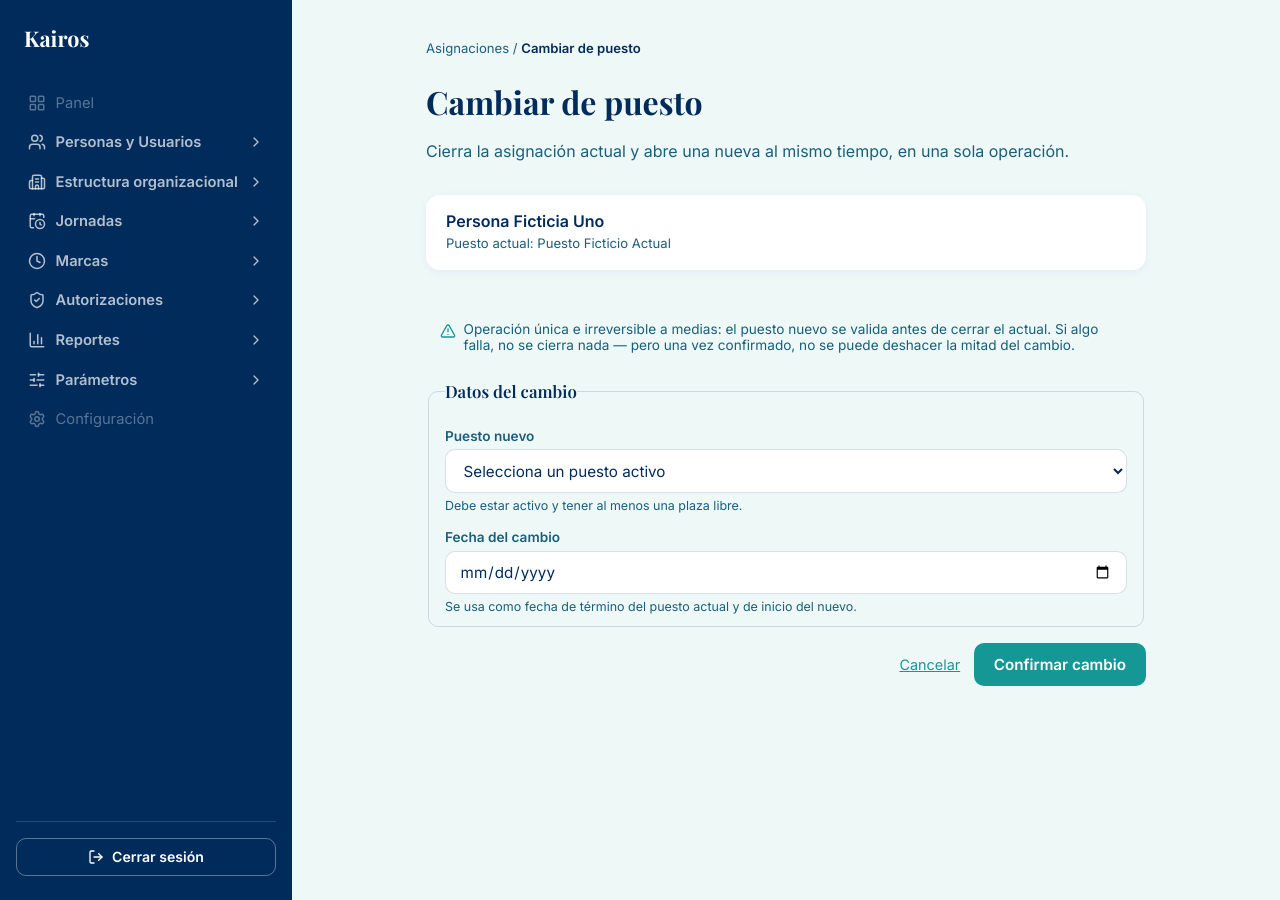
Test: CambiarPuestoAsignacionPage › muestra el detail real del backend cuando el RPC rechaza el cambio (422)
Expected: the text "Persona Ficticia Uno" is shown, [446, 211, 604, 231]
Select "Puesto Ficticio Destino — 0/1 ocupadas" in the dropdown labelled "Puesto nuevo". click: (786, 471)
box: [445, 449, 1127, 493]
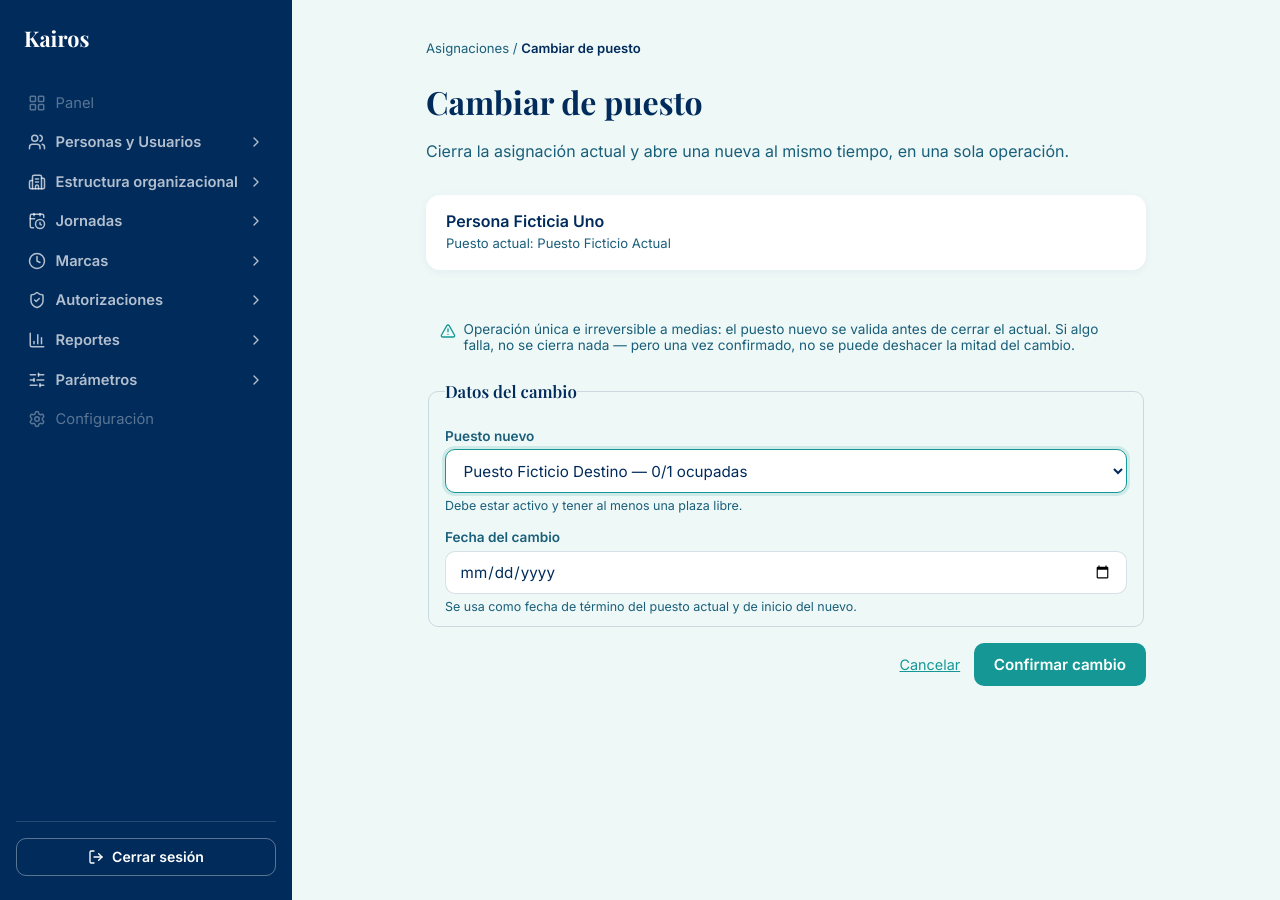
Type "2026-07-01" into the date field labelled "Fecha del cambio". click: (786, 572)
box: [445, 551, 1127, 594]
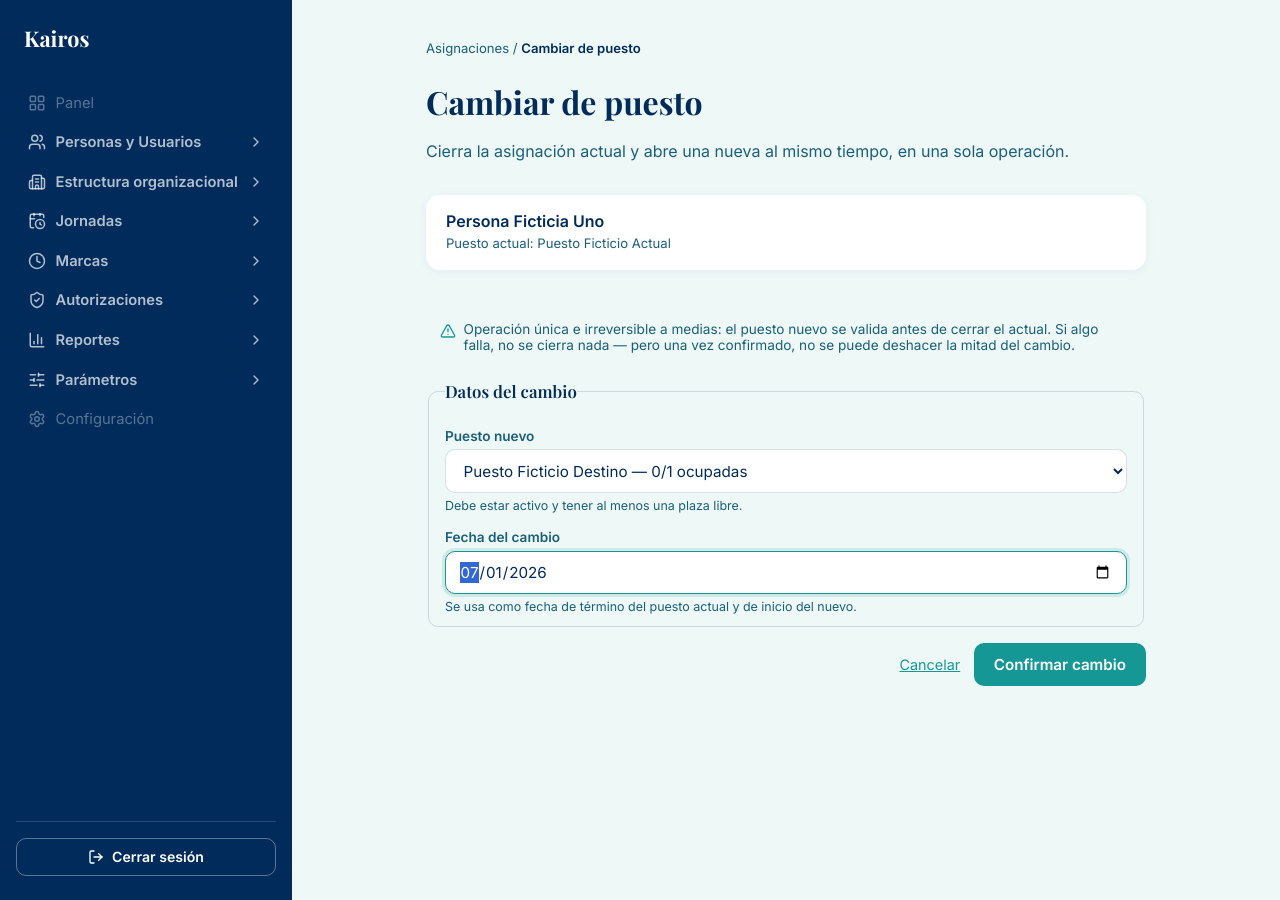
Click the button "Confirmar cambio". click: (1060, 665)
box: [974, 643, 1146, 686]
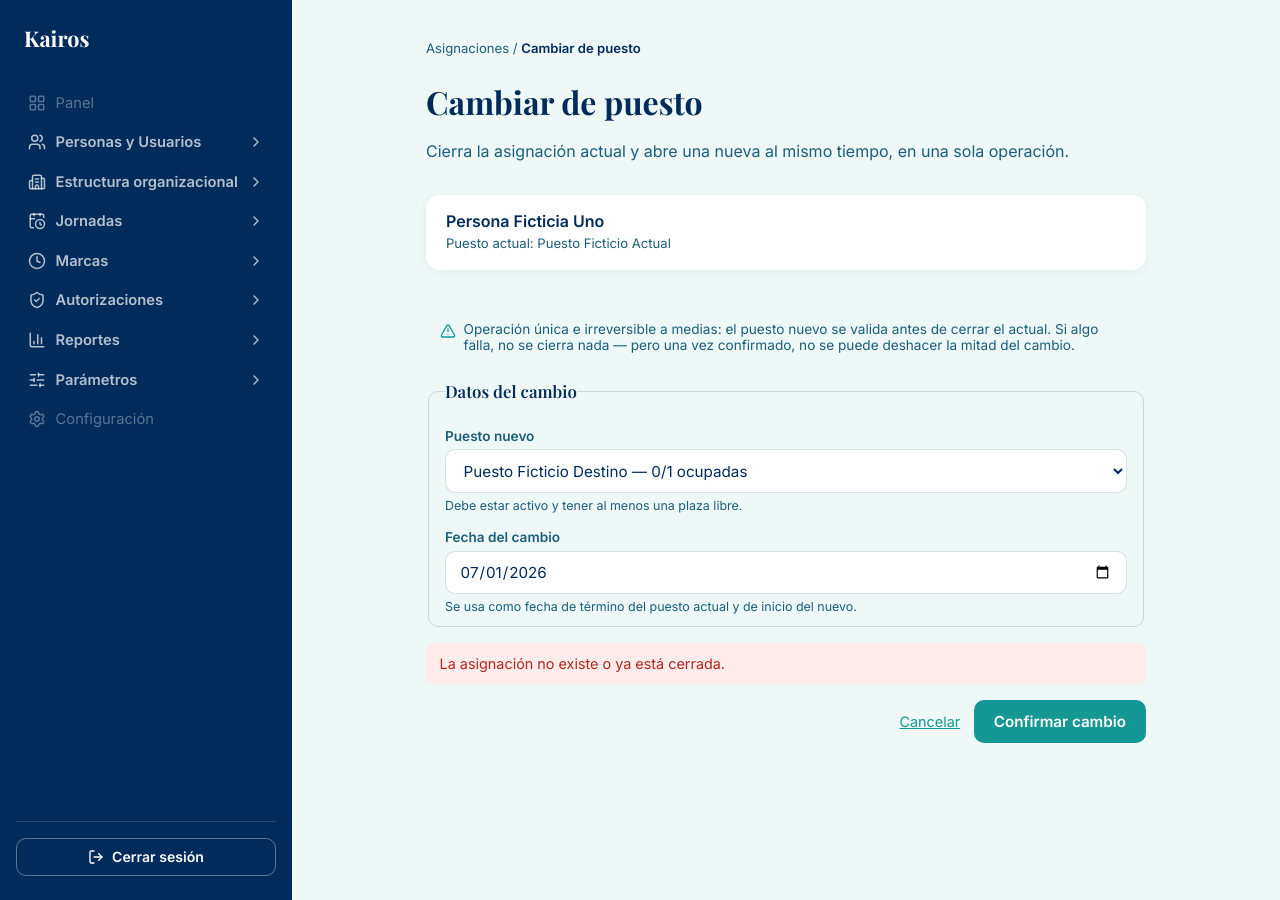
Expected: the text "La asignación no existe o ya está cerrada." is shown, [426, 643, 1146, 684]
